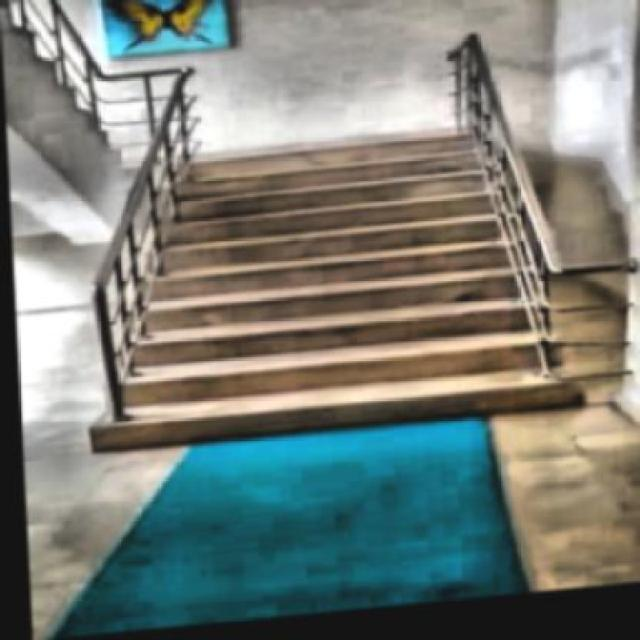stair: (67, 139, 578, 463)
